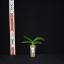leaf: (33, 37, 45, 44), (23, 36, 33, 43), (21, 41, 32, 44), (33, 41, 42, 44)
